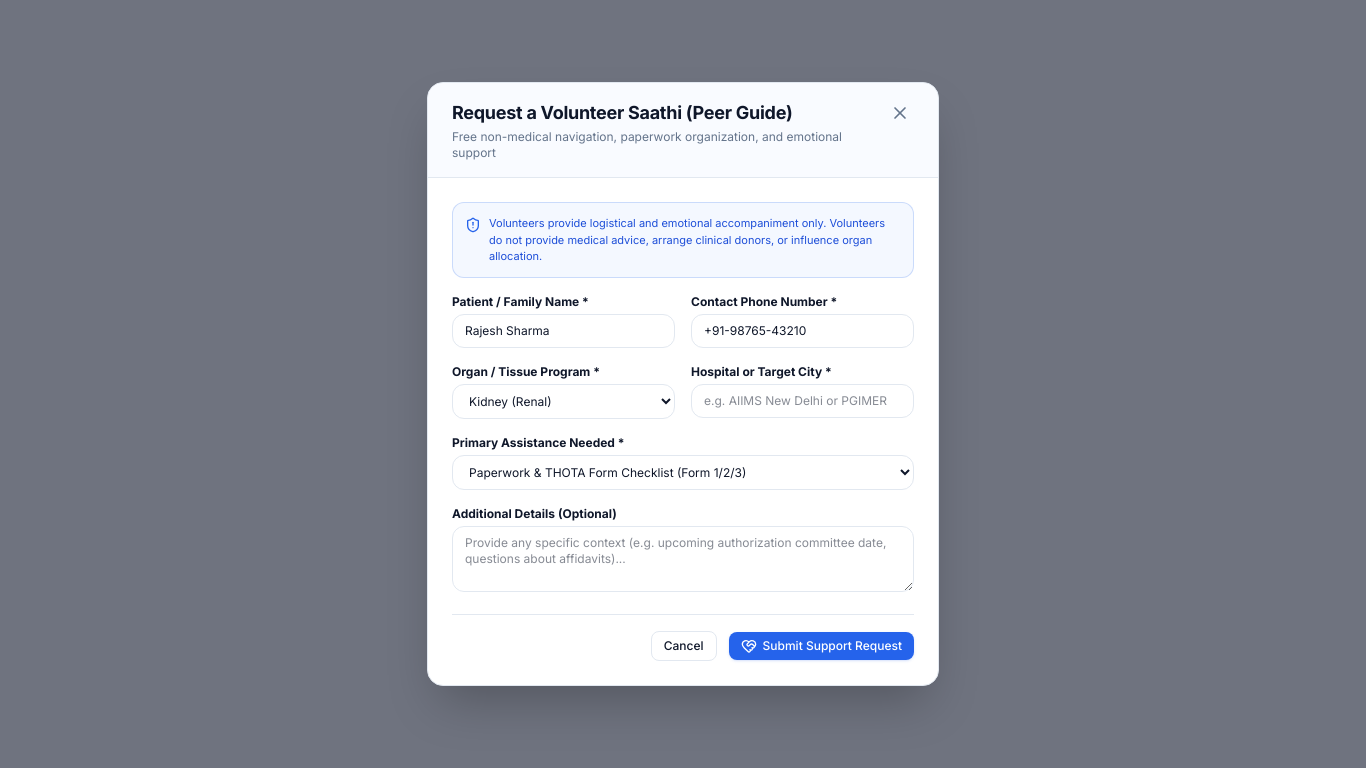
Test case: Assistance Request Workflow & Expense Planner Suite › Assistance Request Submission & Input Validation › submits valid non-clinical support request and records audit log
Replace the text in the field with placeholder "e.g. Ramesh Kumar" below "Patient / Family Name *" with "Sunil Verma": (564,331) [452,314,675,348]
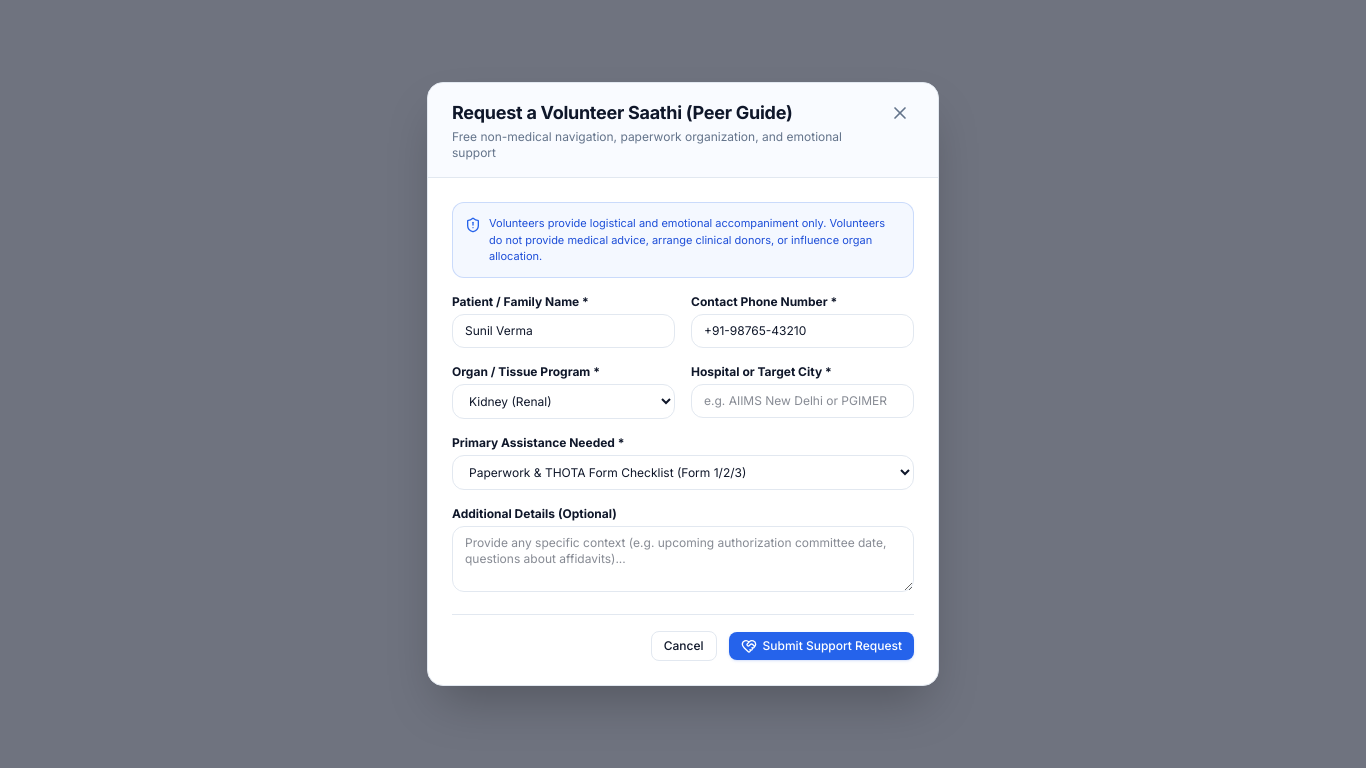
Replace the text in the field with placeholder "e.g. +91 98765 43210" below "Contact Phone Number *" with "9876543210": (802,331) [691,314,914,348]
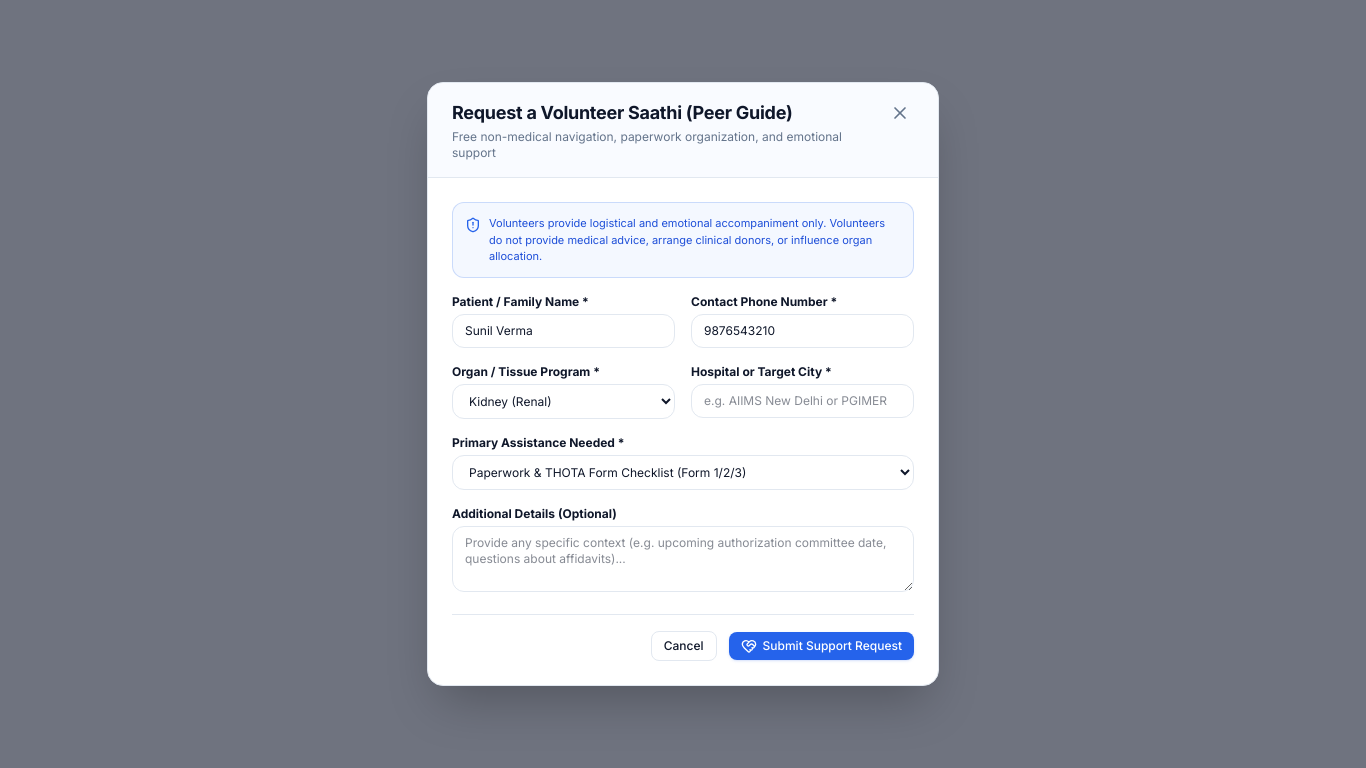
In the field with placeholder "e.g. AIIMS New Delhi or PGIMER": (802,401) [691,384,914,418], type "PGIMER Chandigarh"
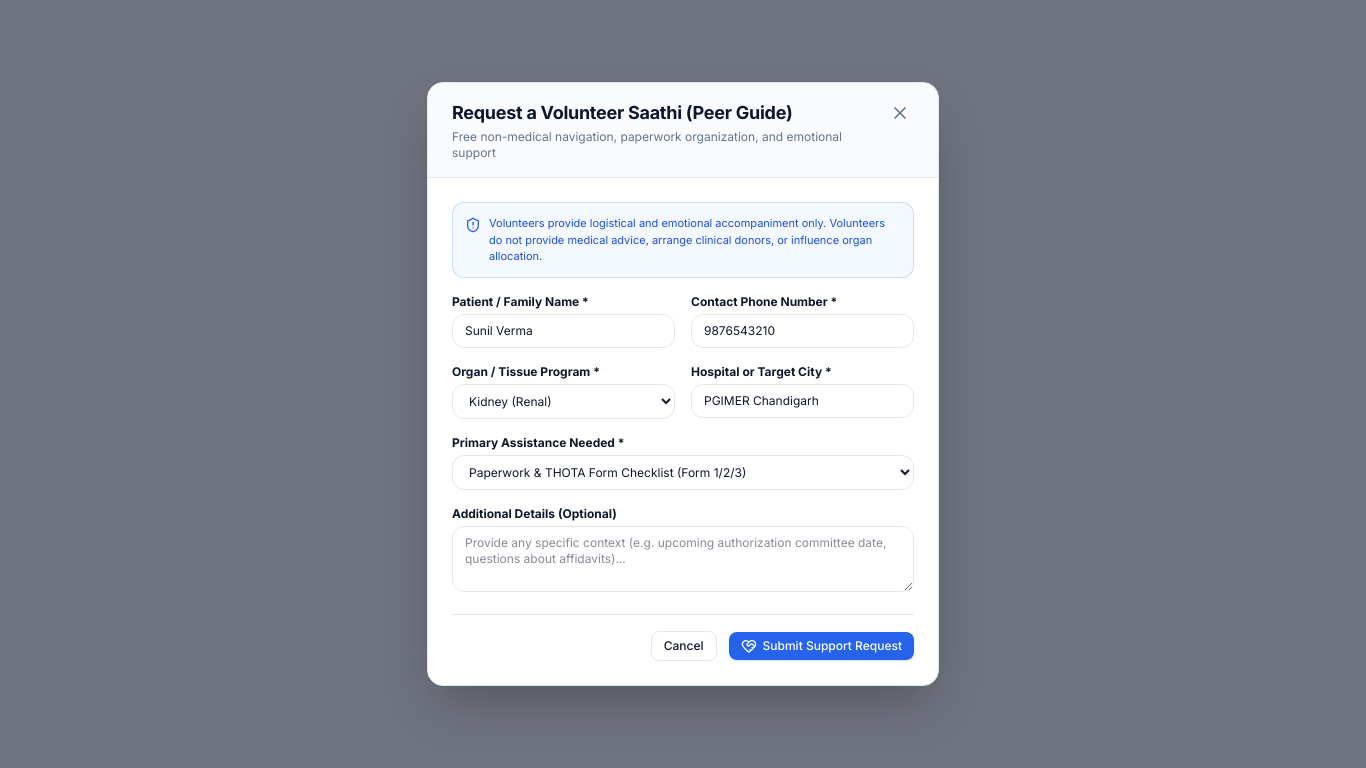
Replace the text in the text box with placeholder "Provide any specific context" with "Assistance needed with Form 1 notary attestation": (683,559) [452,526,914,592]
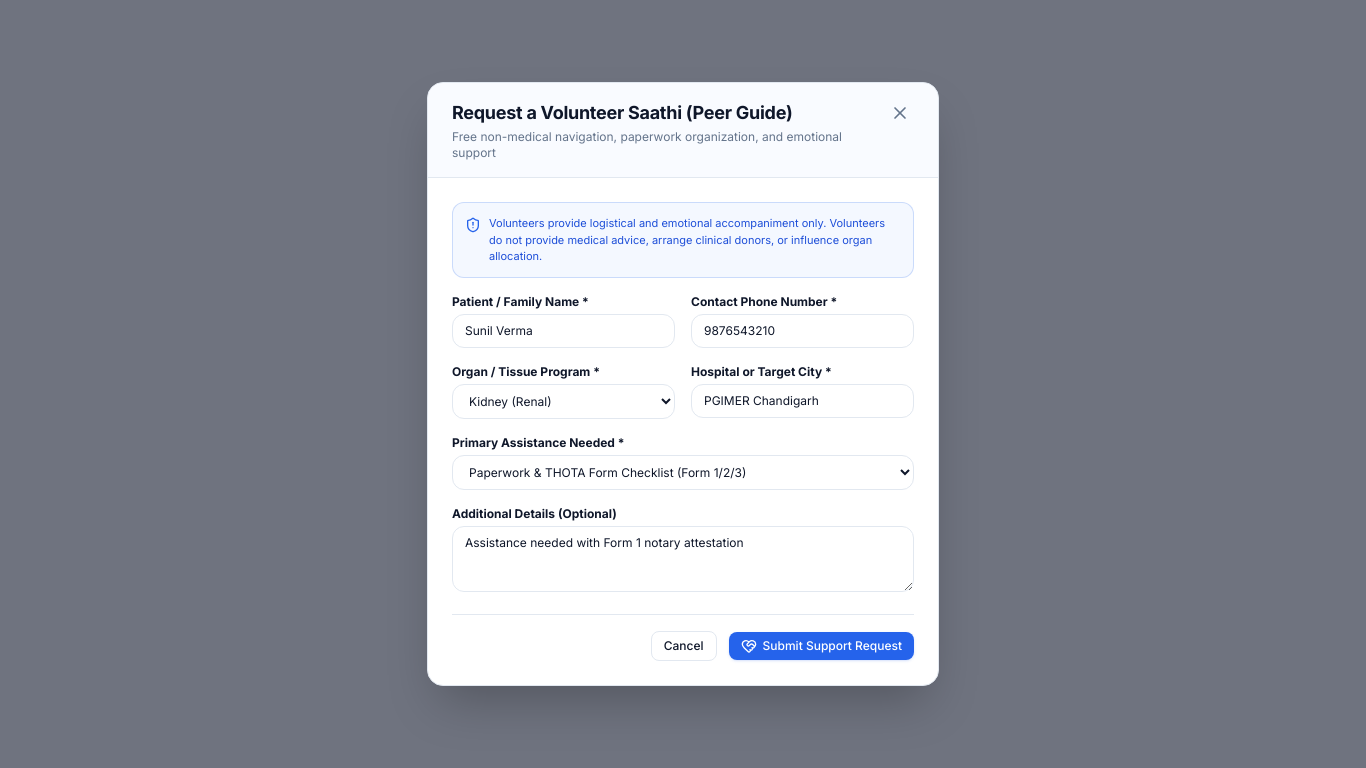
Click the button "Submit Support Request": (821,646) [729,632,914,660]
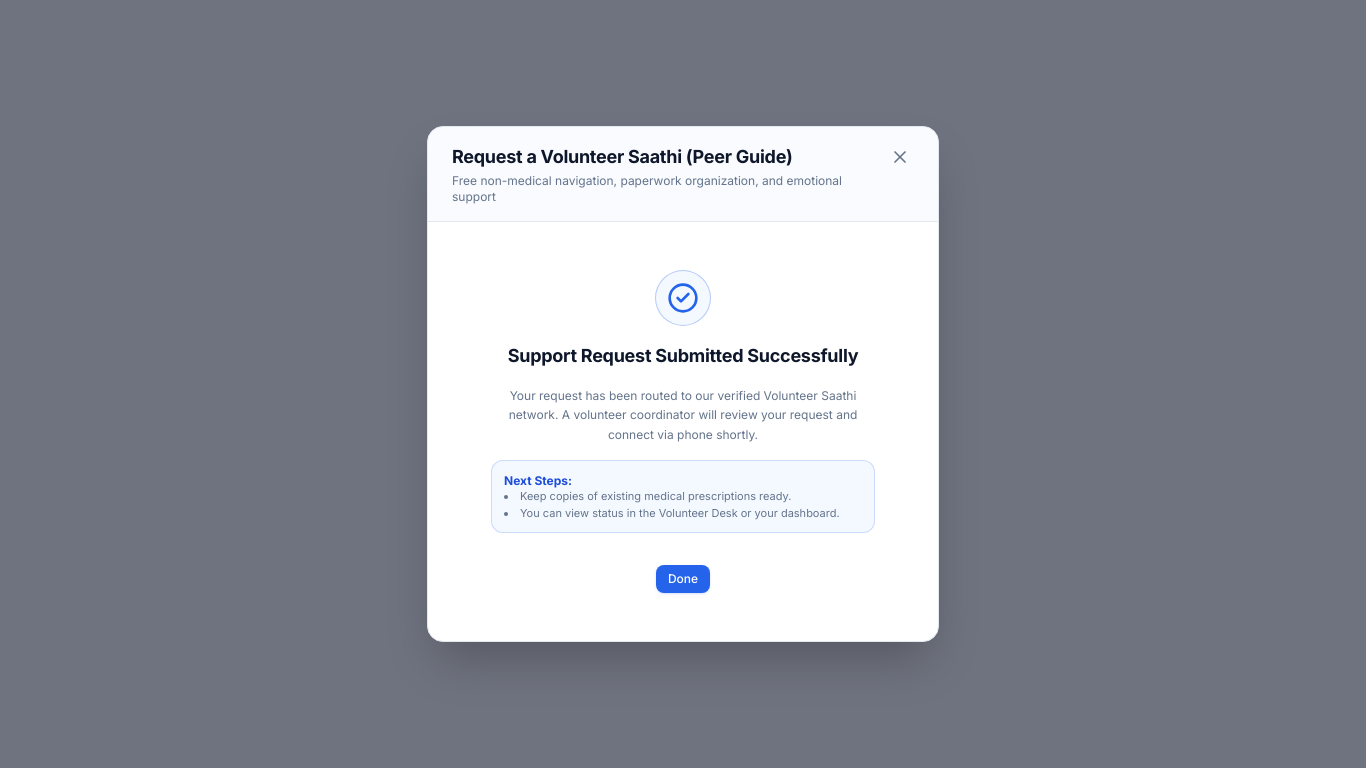
expect the heading "Support Request Submitted Successfully" is shown: met, box [508,345,858,366]
